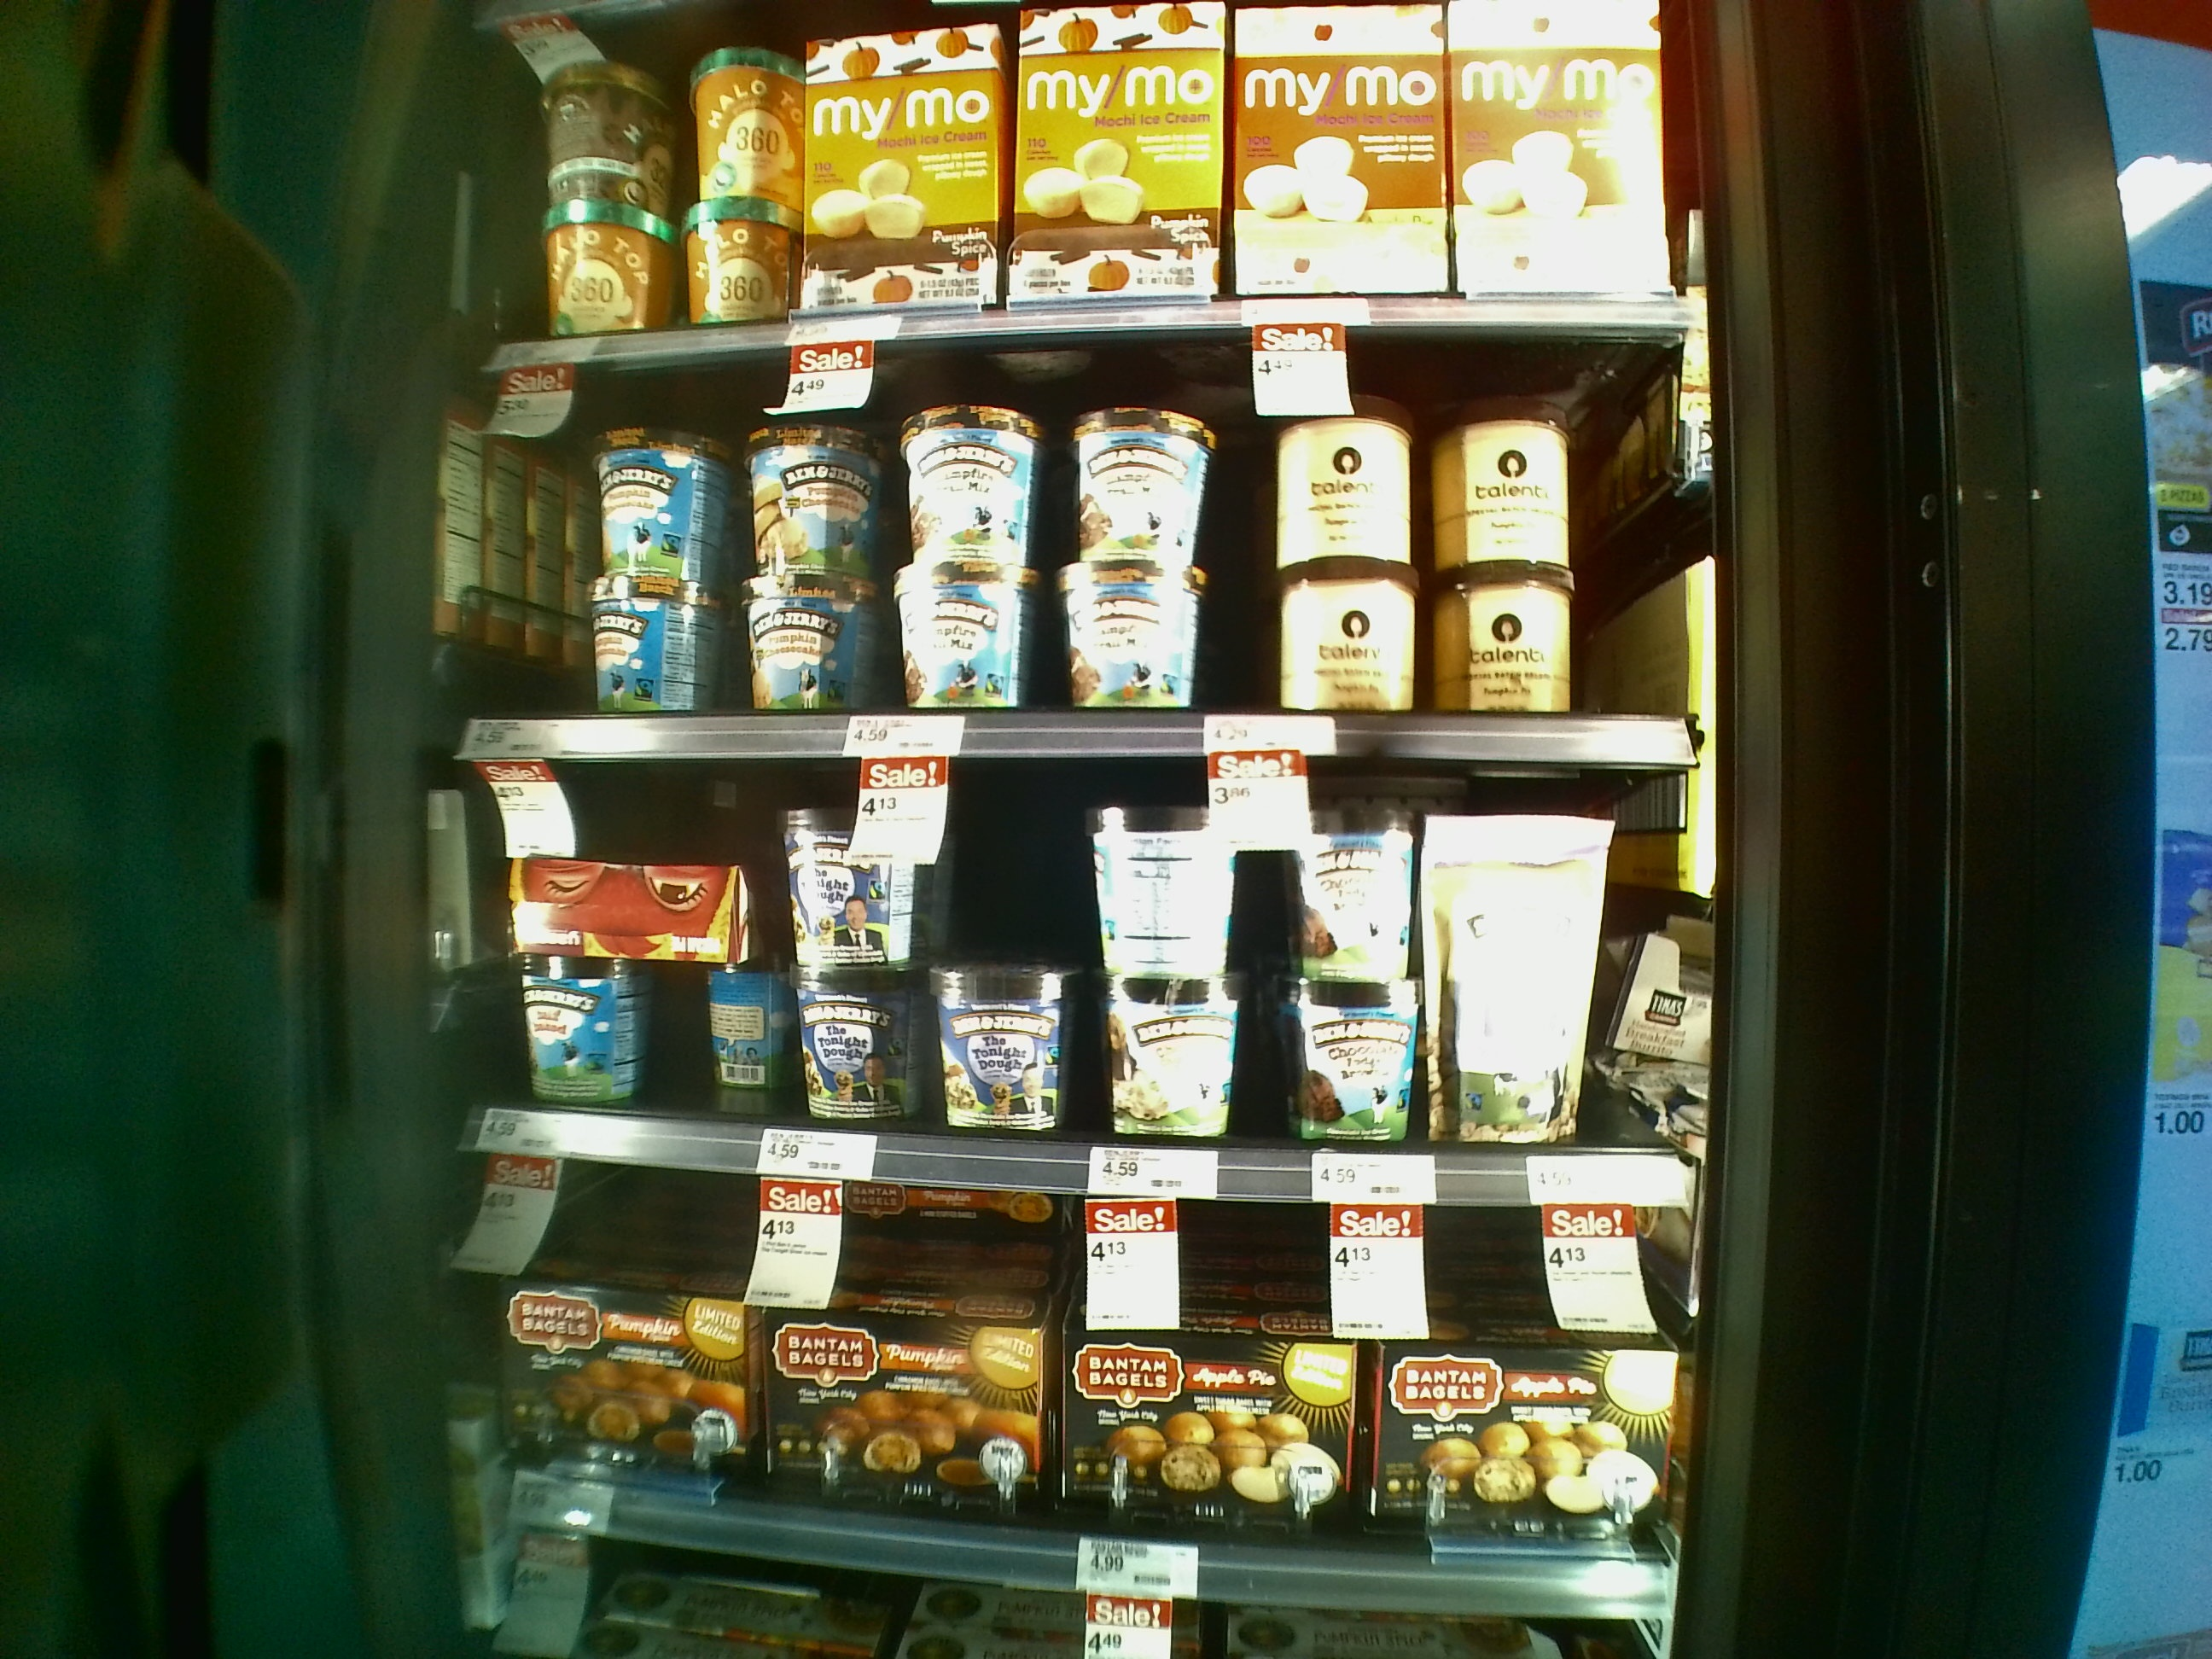shelf: (399, 1121, 1674, 1608), (427, 711, 1693, 1195), (455, 343, 1695, 758)
